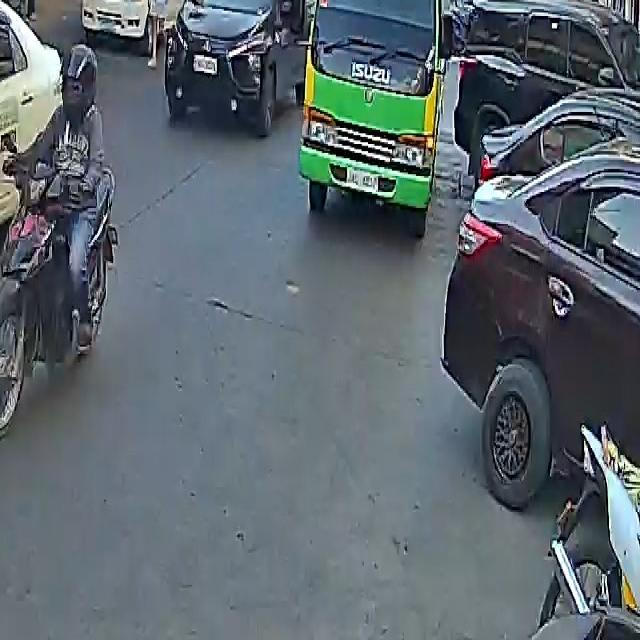car: (443, 151, 640, 518), (450, 0, 639, 178), (0, 0, 69, 348), (163, 0, 315, 139), (79, 0, 201, 46)
